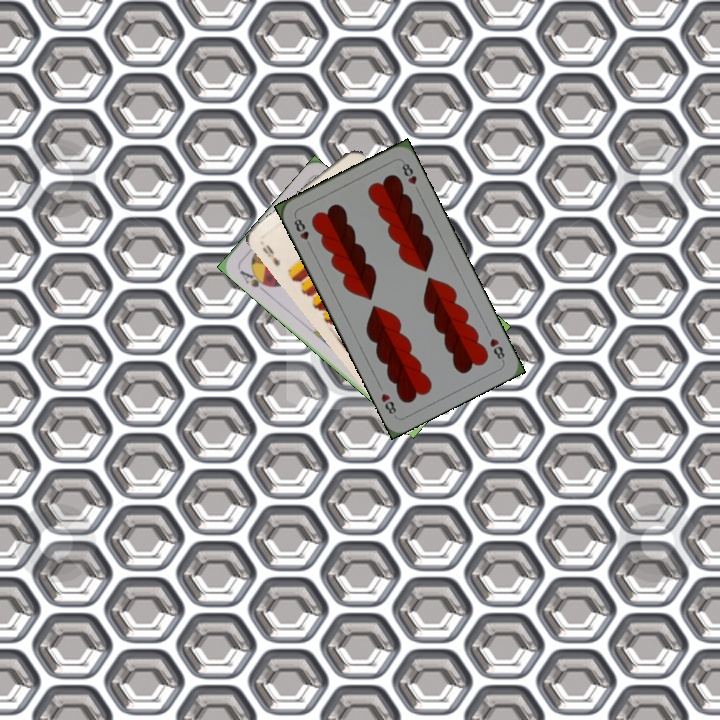E9: (258, 240, 283, 269)
H8: (290, 213, 314, 250), (486, 334, 507, 364)
SA: (235, 266, 273, 295)
